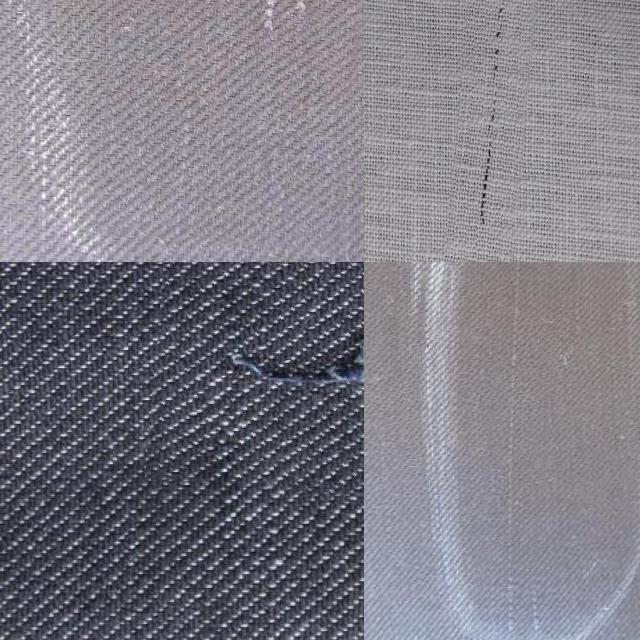stains: (105, 0, 364, 246), (150, 262, 364, 500), (484, 262, 570, 640), (451, 0, 538, 262)
